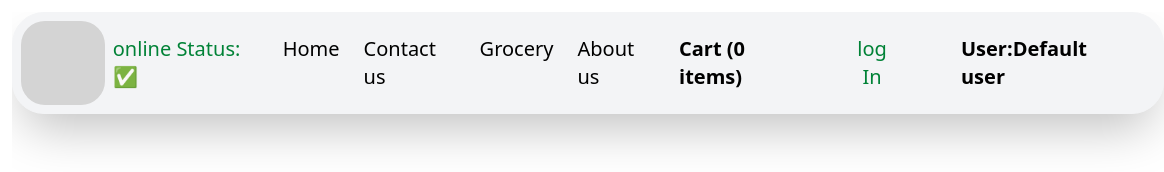
Test: It should change the login button to the logout button on click of button
The image size is (1164, 172).
Click the button "log In".
click(872, 63)  # box x1=827 y1=35 x2=917 y2=91
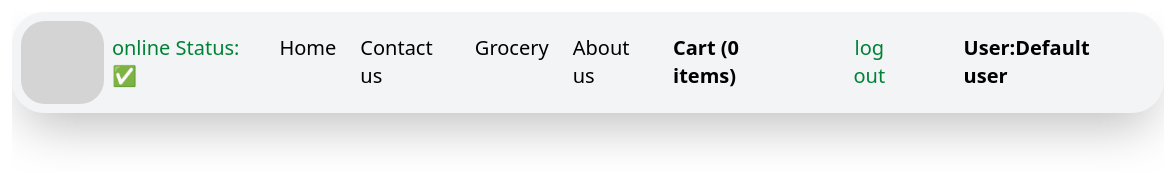
Result: the button "log out" is shown at x1=819 y1=34 x2=920 y2=90
